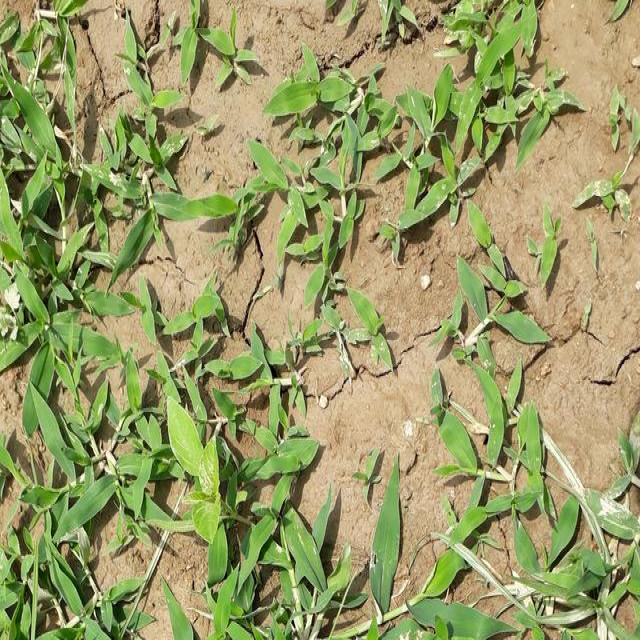weed: (2, 16, 308, 640), (425, 245, 640, 640), (324, 36, 592, 223)
